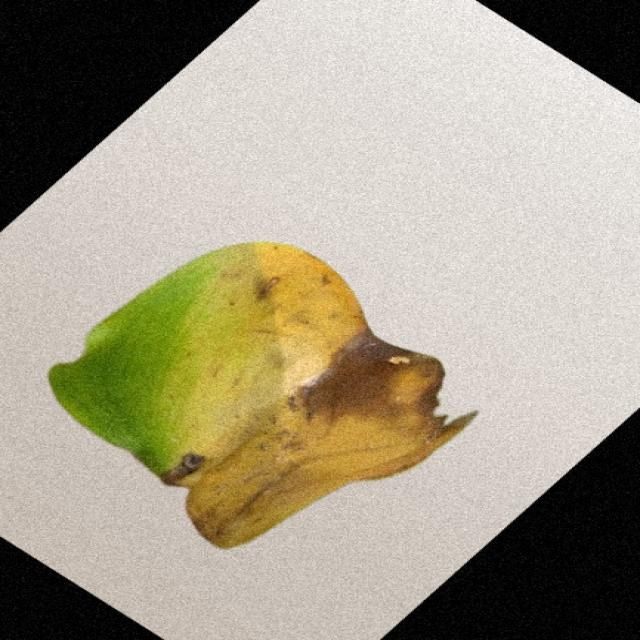daun berpenyakit kuning: (48, 242, 476, 547)
